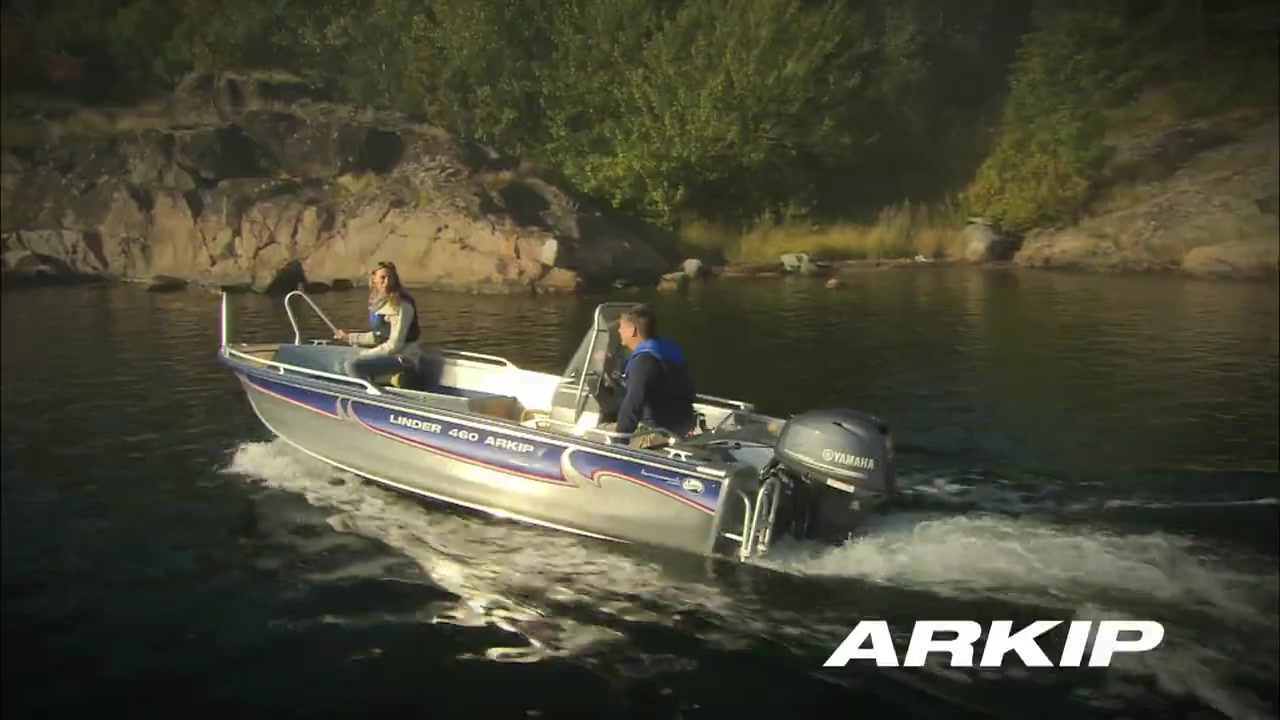boat: (210, 280, 901, 594)
